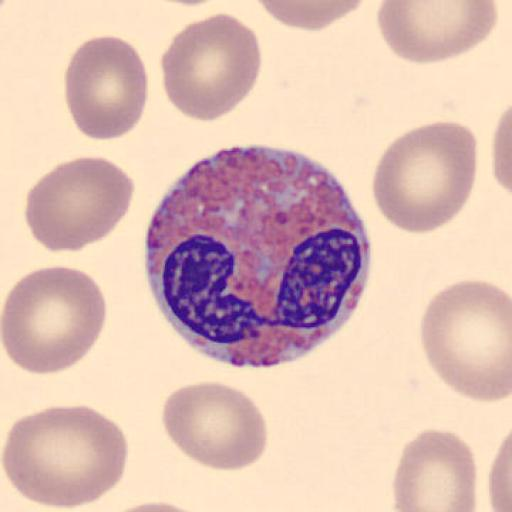RBC: (1, 404, 131, 510), (370, 119, 478, 235), (1, 263, 109, 376), (418, 278, 512, 405), (159, 11, 263, 124), (23, 155, 135, 254), (160, 378, 270, 473), (62, 33, 150, 142), (377, 0, 499, 65), (391, 427, 478, 512), (252, 0, 370, 34), (490, 100, 512, 198), (488, 431, 512, 512), (97, 499, 216, 512)
WBC: (142, 145, 373, 370)
